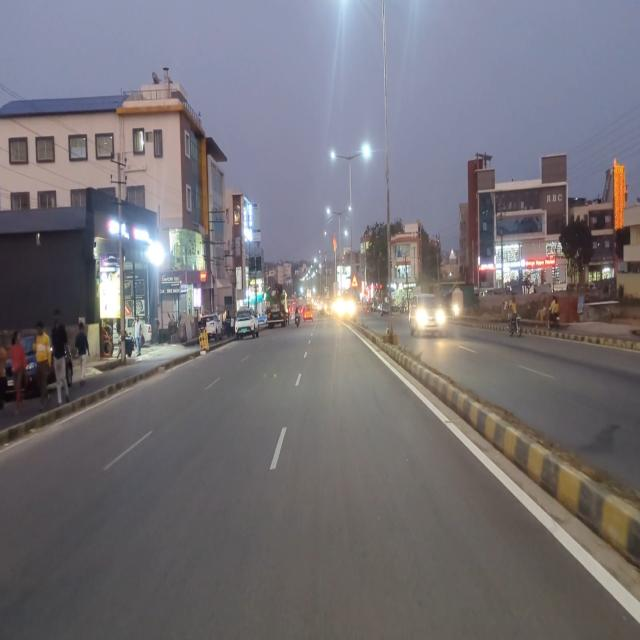bien_cam: (351, 273, 359, 289)
